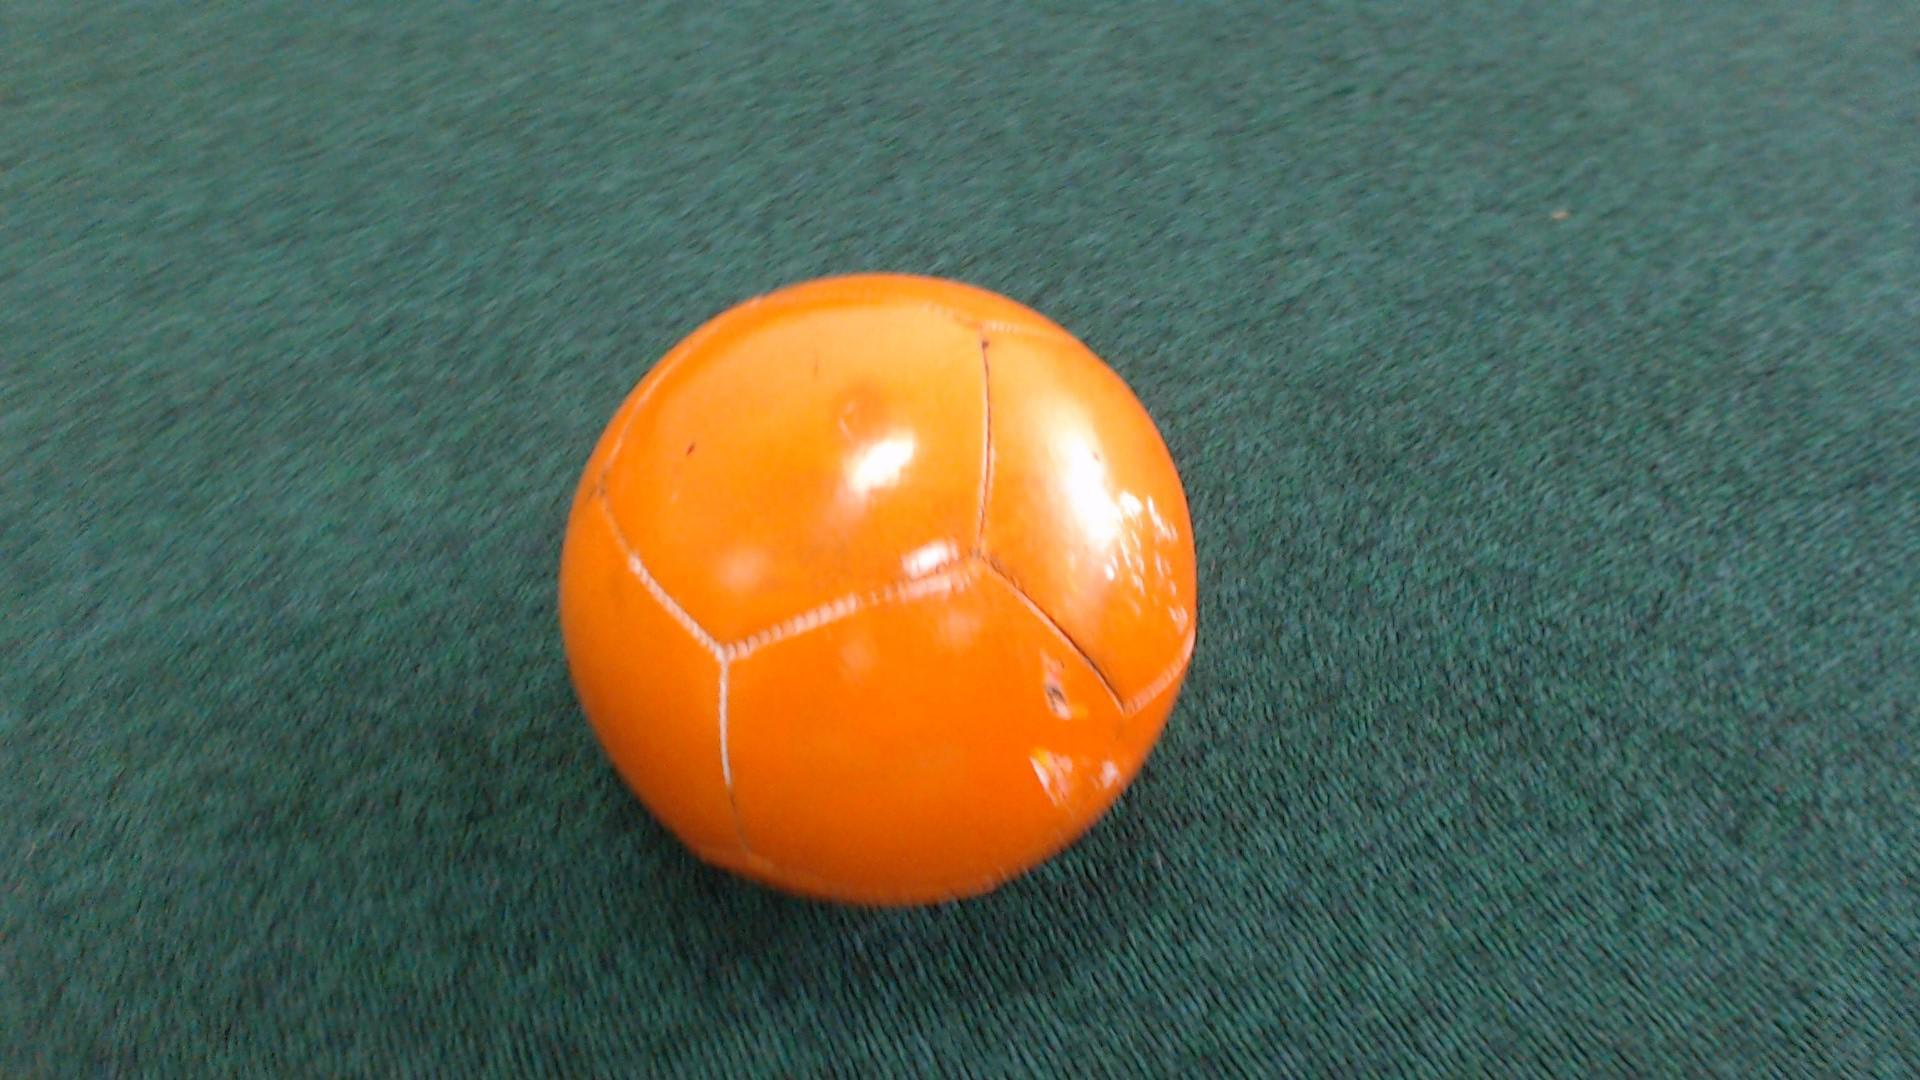bola: (534, 256, 1232, 922)
